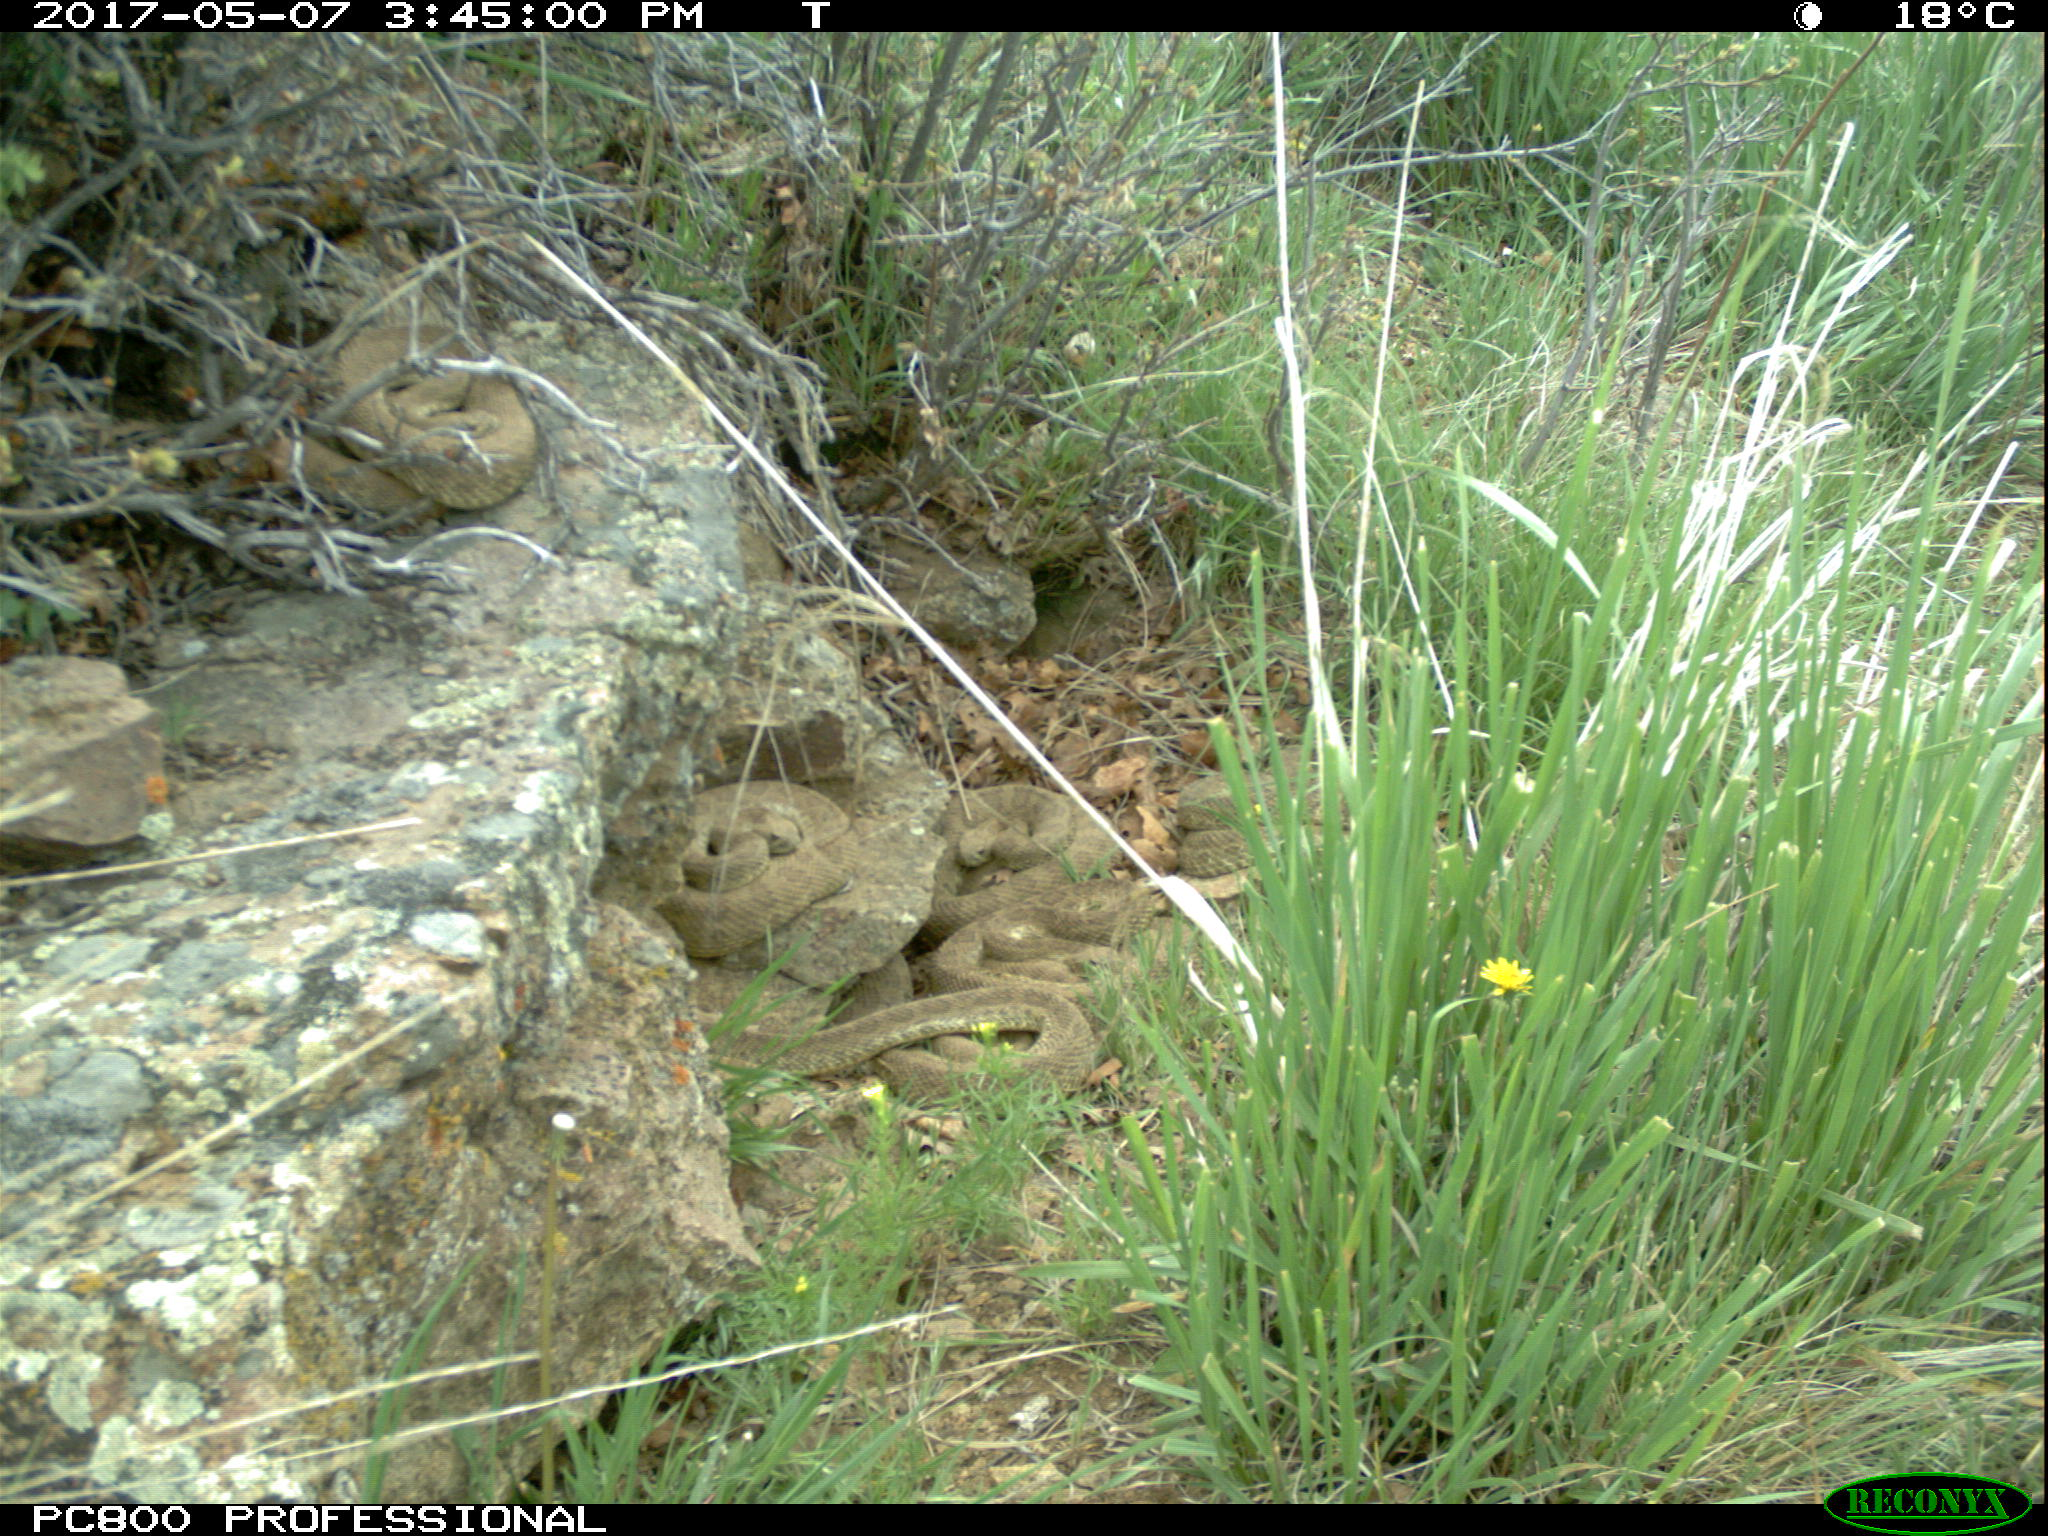snake: (261, 316, 547, 510), (655, 779, 866, 987), (735, 984, 1090, 1100), (939, 879, 1185, 1007), (935, 778, 1122, 933), (1172, 763, 1361, 887)
